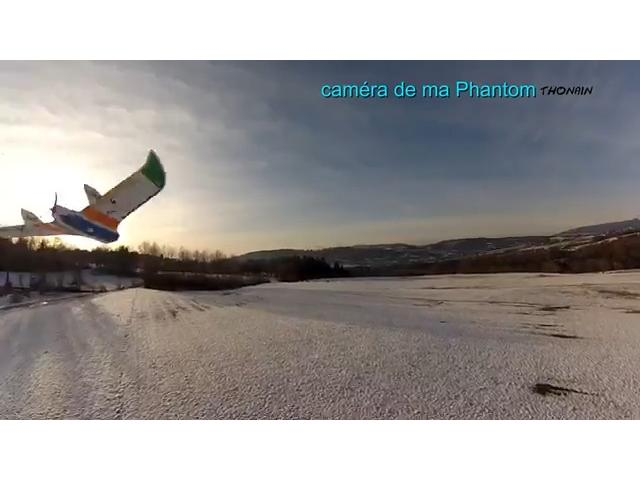Anti-Drone: (0, 140, 174, 248)
